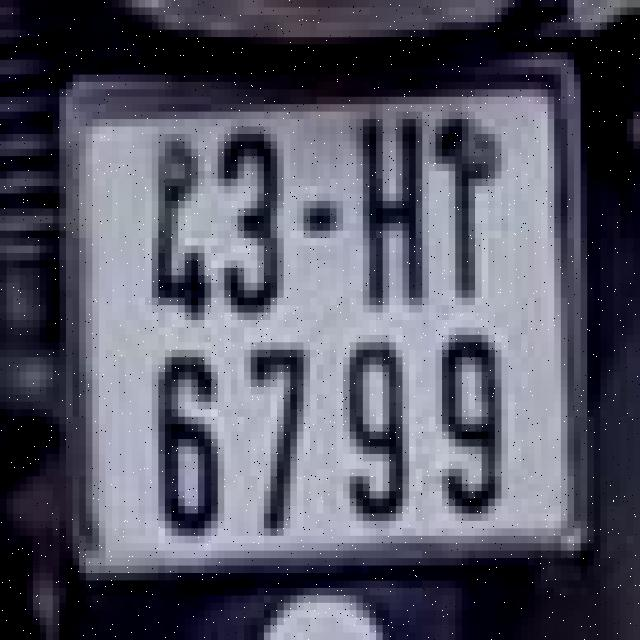1: (429, 97, 488, 305)
3: (214, 122, 287, 338)
4: (138, 130, 224, 331)
6: (145, 346, 238, 547)
7: (234, 338, 314, 540)
9: (432, 320, 512, 521), (343, 331, 416, 532)
H: (336, 104, 436, 313)
